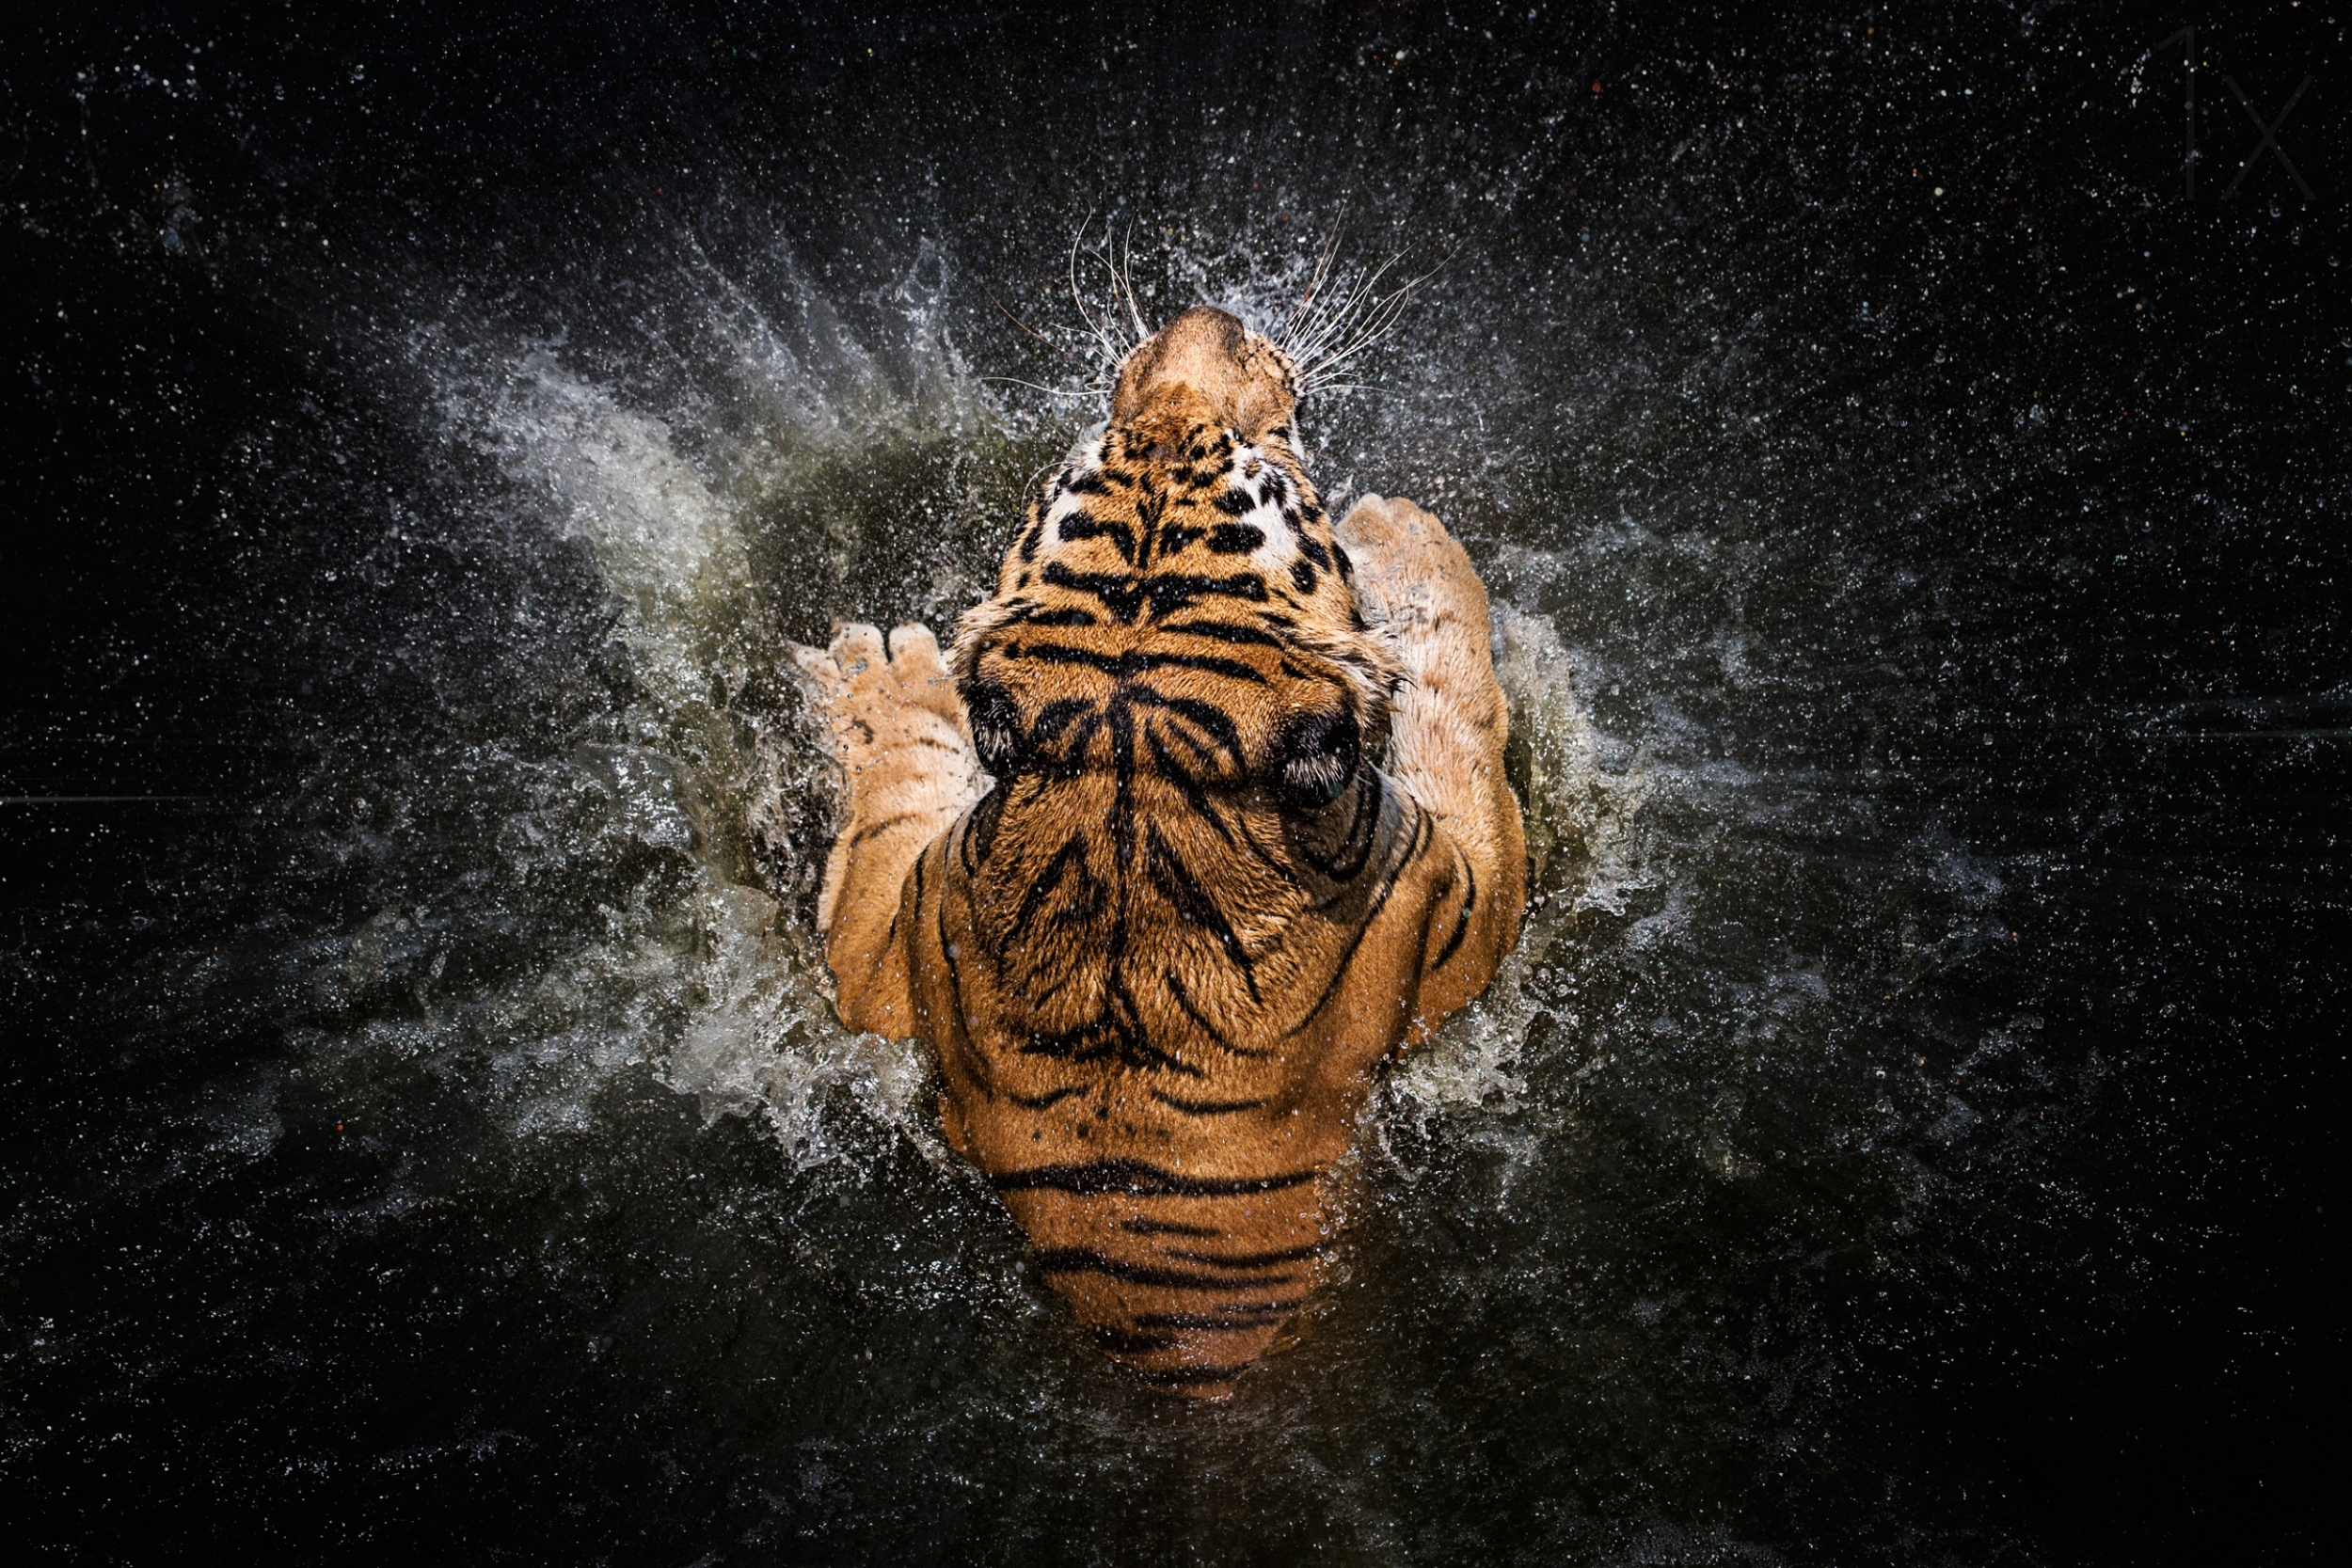tiger: (616, 255, 1671, 1374)
